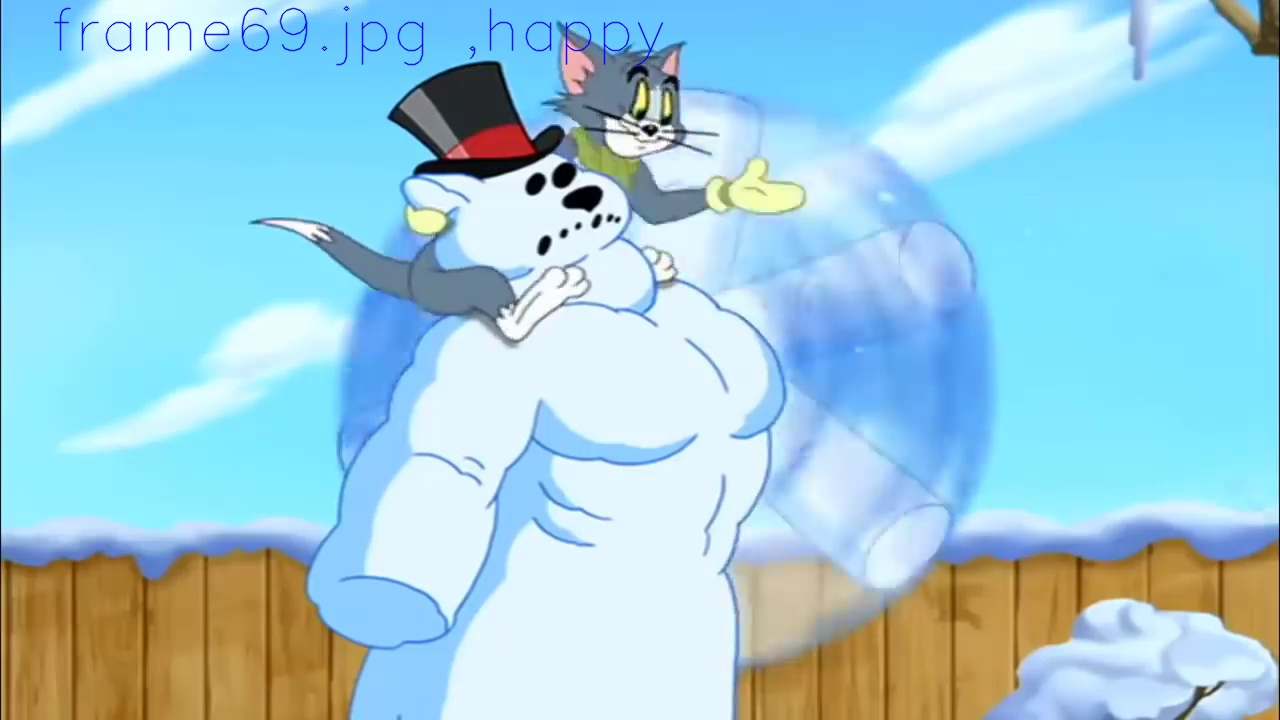happy: (619, 61, 680, 158)
